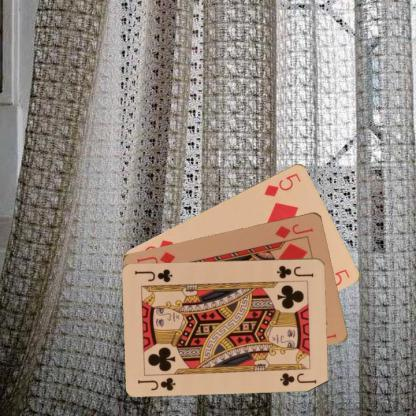5d: (262, 170, 302, 198)
Jc: (135, 374, 177, 392), (274, 262, 315, 280)
Jd: (272, 221, 315, 240)
